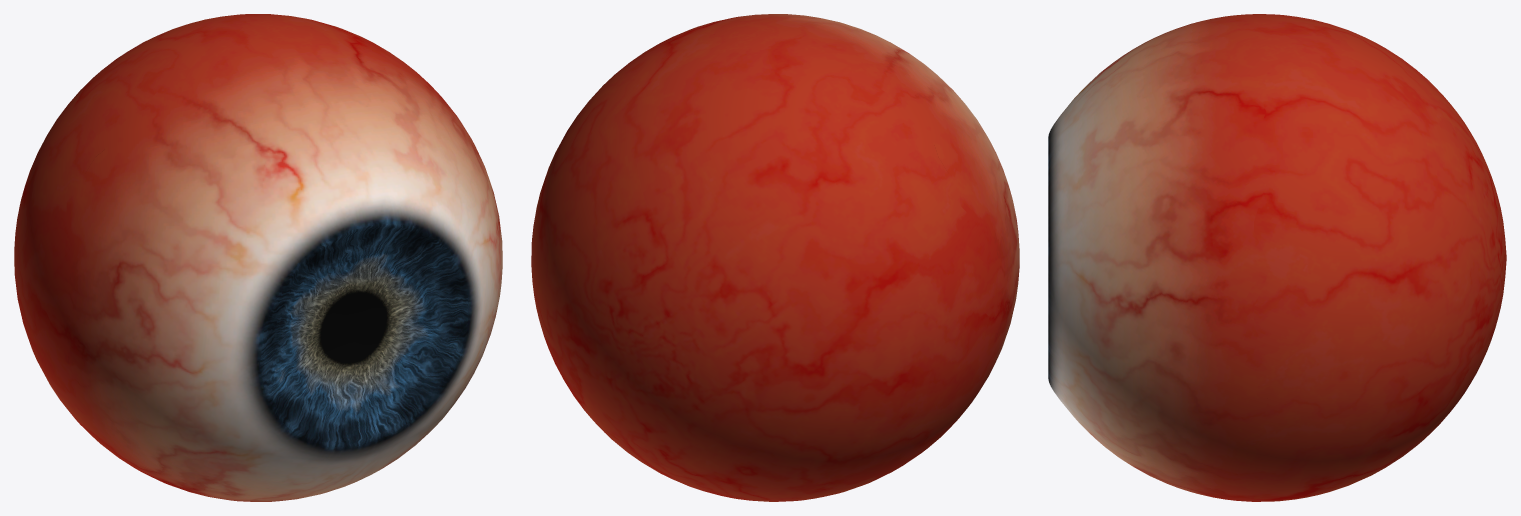
File: Eyes.glb
The picture shows the model from 3 angles, left to right: view 1: azimuth 30°, elevation 25°; view 2: azimuth 150°, elevation 25°; view 3: azimuth 270°, elevation 25°; orthographic projection.
Visible parts, largest first — view 1: node_id79_Material_89_0_4; view 2: node_id79_Material_89_0_4; view 3: node_id79_Material_89_0_4.
Boxes of the visible parts, box(x1,y1,x2,y2) form: node_id79_Material_89_0_4: box(14, 14, 502, 501); node_id79_Material_89_0_4: box(531, 14, 1019, 501); node_id79_Material_89_0_4: box(1048, 14, 1506, 501).
Bounding box in the file's own units: 0.0022 × 0.0022 × 0.00207.
Materials: 1 (1 with a texture image).
